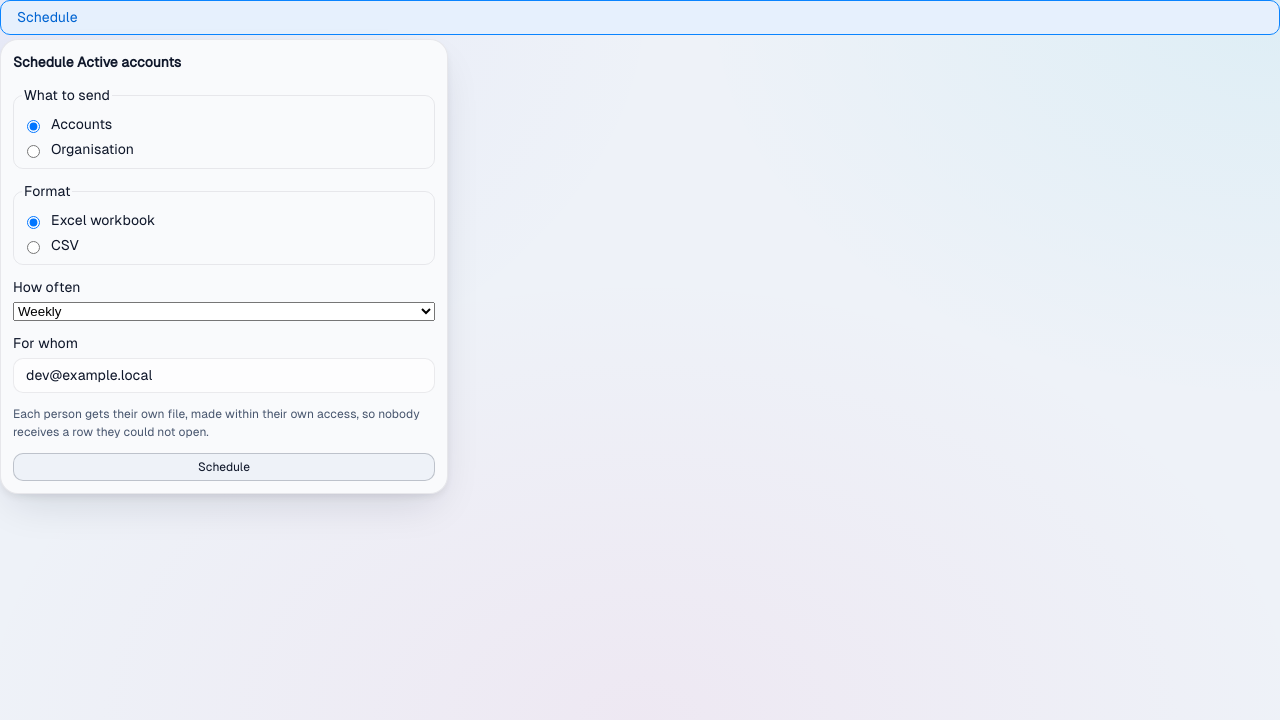
it: Schedule › says a refusal in the words the API gave
The width and height of the screenshot is (1280, 720).
Expected: the field with test id "schedule-view-recipients" holds "dev@example.local", [13,358,435,393]
Click the button with test id "schedule-view-submit" at coordinates (224, 467), box [13,453,435,481]
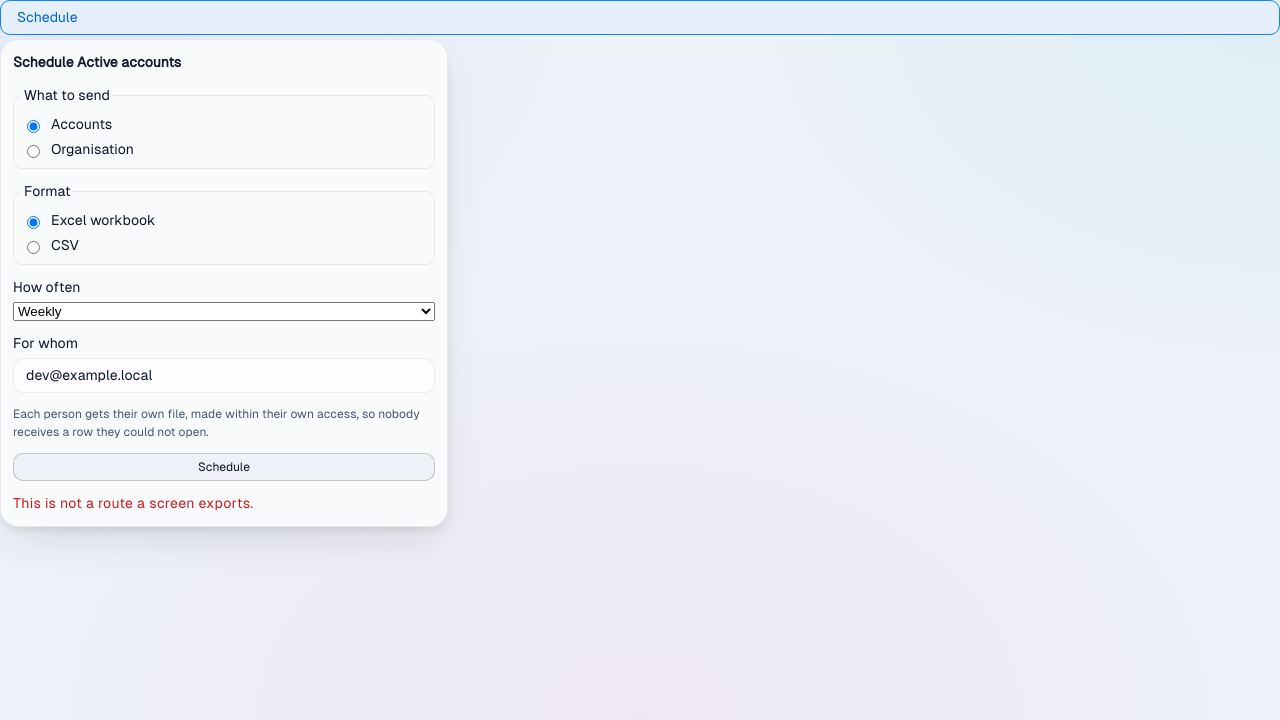
Expected: the message with test id "schedule-view-failure" reads "This is not a route a screen exports.", [13,495,254,511]
